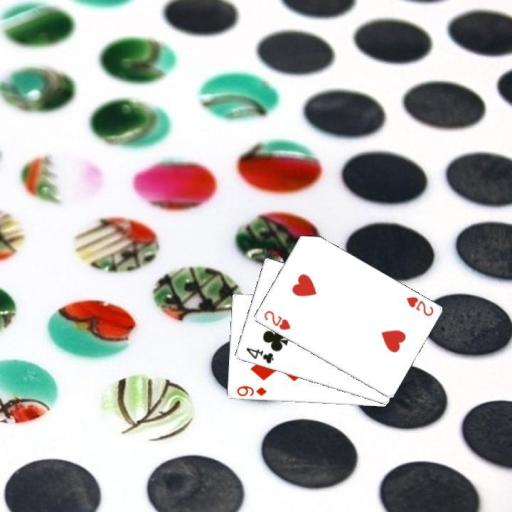2H: (260, 308, 292, 332), (403, 294, 435, 318)
4C: (243, 345, 275, 365)
9D: (233, 383, 268, 398)
